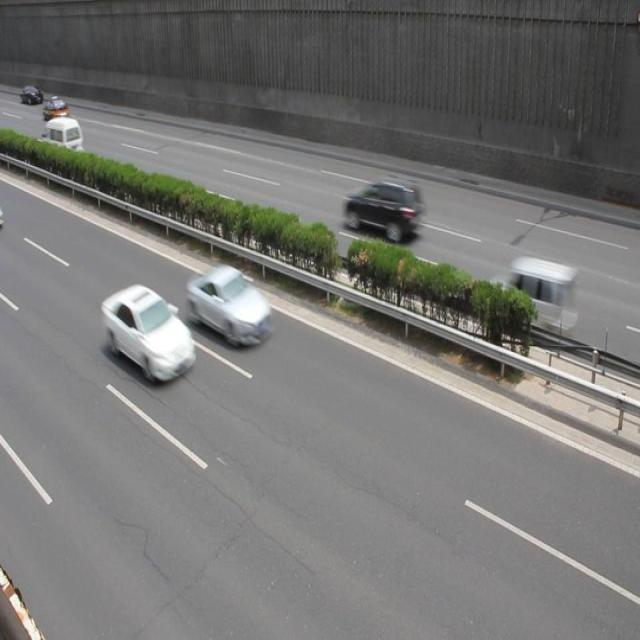car: (102, 282, 196, 382), (486, 253, 577, 337), (188, 261, 270, 349), (341, 179, 420, 239), (43, 114, 82, 140)
truck: (42, 115, 85, 156)
